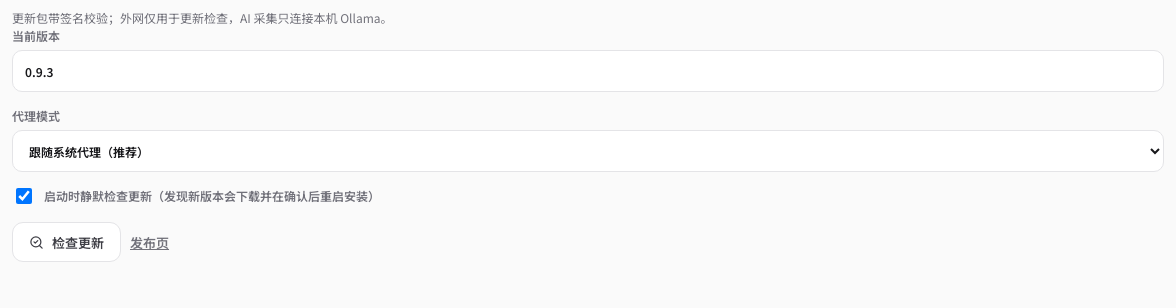
桌面端发现新版本：下载→就绪→出现立即重启
The width and height of the screenshot is (1176, 308).
Click the button "检查更新" at (66, 242), box top-left (12, 222), bottom-right (121, 262)
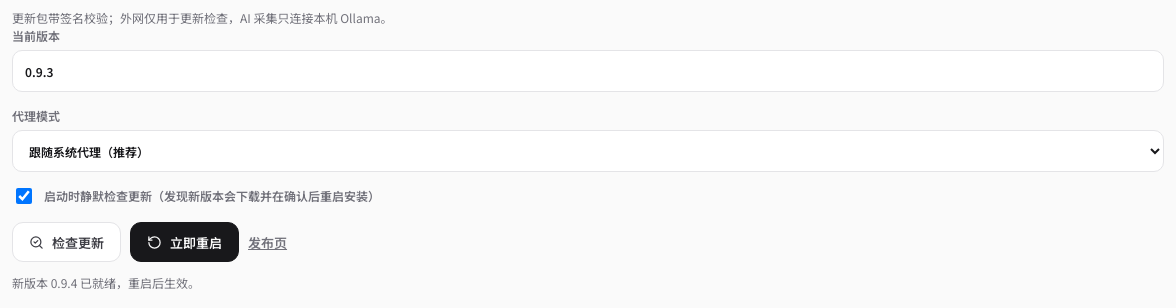
Expected: the text "0.9.4 已就绪" is shown, top-left (12, 274), bottom-right (200, 291)
Expected: the button "立即重启" is shown, top-left (130, 222), bottom-right (239, 262)
